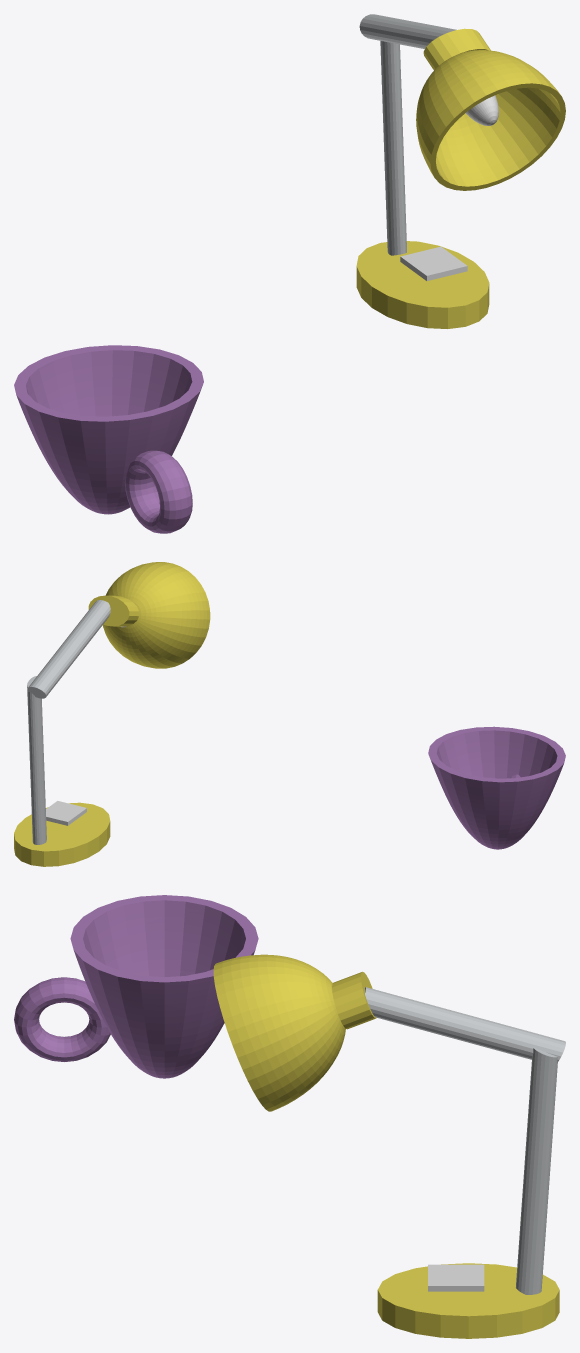
The model's file is Powerful Bigery-Hillar.glb.
The picture shows the model from 3 angles, top to bottom: view 1: azimuth 30°, elevation 25°; view 2: azimuth 150°, elevation 25°; view 3: azimuth 270°, elevation 25°; orthographic projection. The views are drawn at different scales.
Visible parts, largest first — view 1: Mesh_Mesh_head_geo.001_lambert2SG.001; view 2: Mesh_Mesh_head_geo.001_lambert2SG.001; view 3: Mesh_Mesh_head_geo.001_lambert2SG.001.
Boxes of the visible parts, x1,y1,x2,y2 form: Mesh_Mesh_head_geo.001_lambert2SG.001: (14,14,565,533); Mesh_Mesh_head_geo.001_lambert2SG.001: (14,562,565,866); Mesh_Mesh_head_geo.001_lambert2SG.001: (14,895,565,1338).
Bounding box in the file's own units: 116 × 58.8 × 88.
